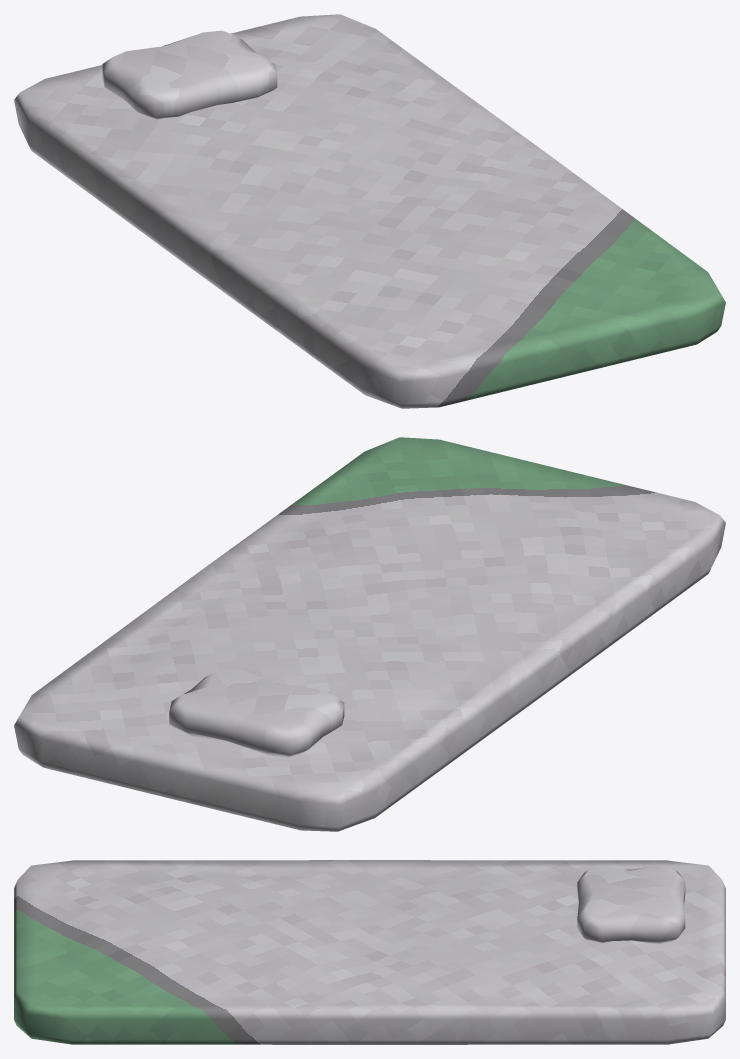
Rendered from Mattress_Grp.fbx.
The picture shows the model from 3 angles, top to bottom: view 1: azimuth 30°, elevation 25°; view 2: azimuth 150°, elevation 25°; view 3: azimuth 270°, elevation 25°; orthographic projection. The views are drawn at different scales.
Visible parts, largest first — view 1: Mattress, Pillow; view 2: Mattress, Pillow; view 3: Mattress, Pillow.
Part boxes in pixels (x1,y1,x2,y2): Mattress: [14, 14, 725, 408]; Pillow: [102, 30, 277, 119]; Mattress: [14, 437, 725, 831]; Pillow: [169, 669, 344, 757]; Mattress: [14, 860, 725, 1044]; Pillow: [577, 865, 685, 943].
Size of the model in its own units: 90.42 by 18.95 by 179.
